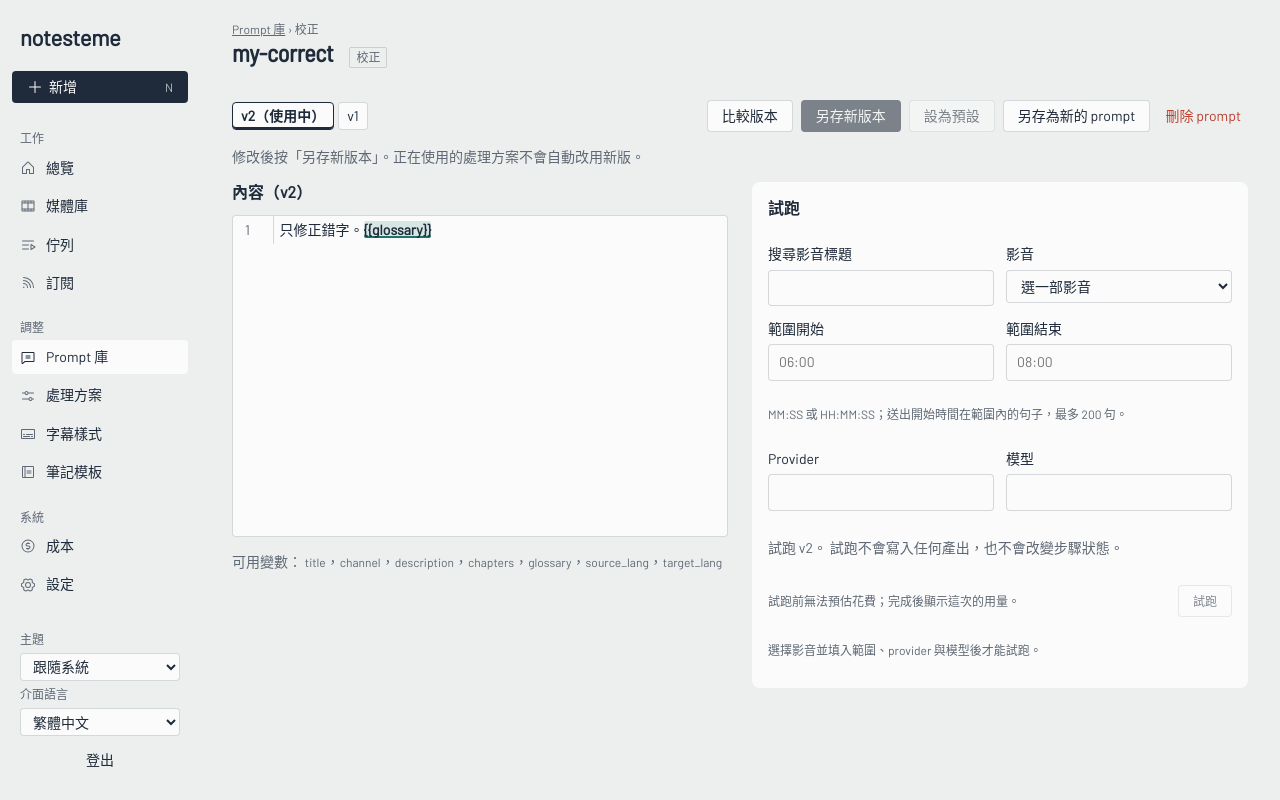
Scenario: Prompt 庫：編輯 › 刪除成功後回到列表
This screenshot has width=1280, height=800.
expect the heading "my-correct" is shown: met, box [232, 39, 333, 68]
expect the element named "版本" is shown: met, box [232, 102, 368, 130]
Click the button "刪除 prompt".
click(1203, 116)  # box [1158, 100, 1248, 132]
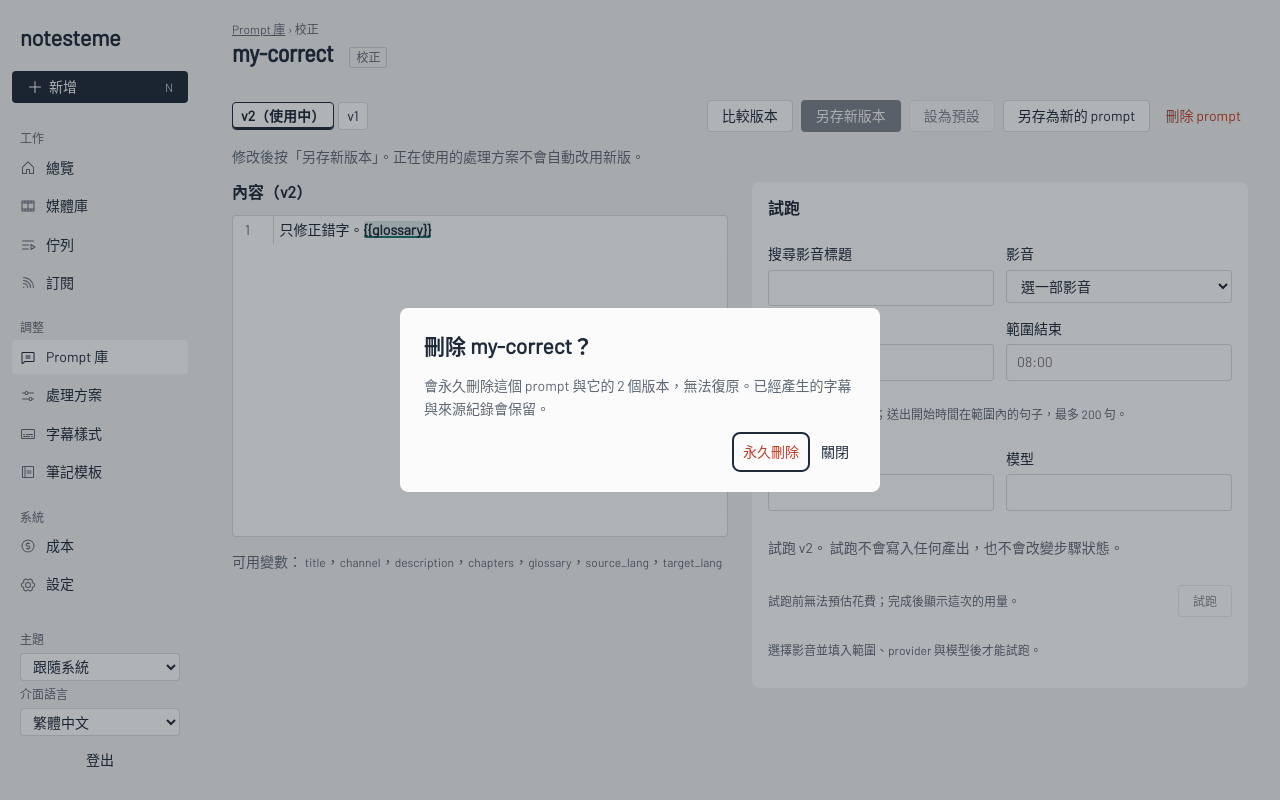
Click the button "永久刪除".
click(771, 452)  # box [736, 436, 806, 468]
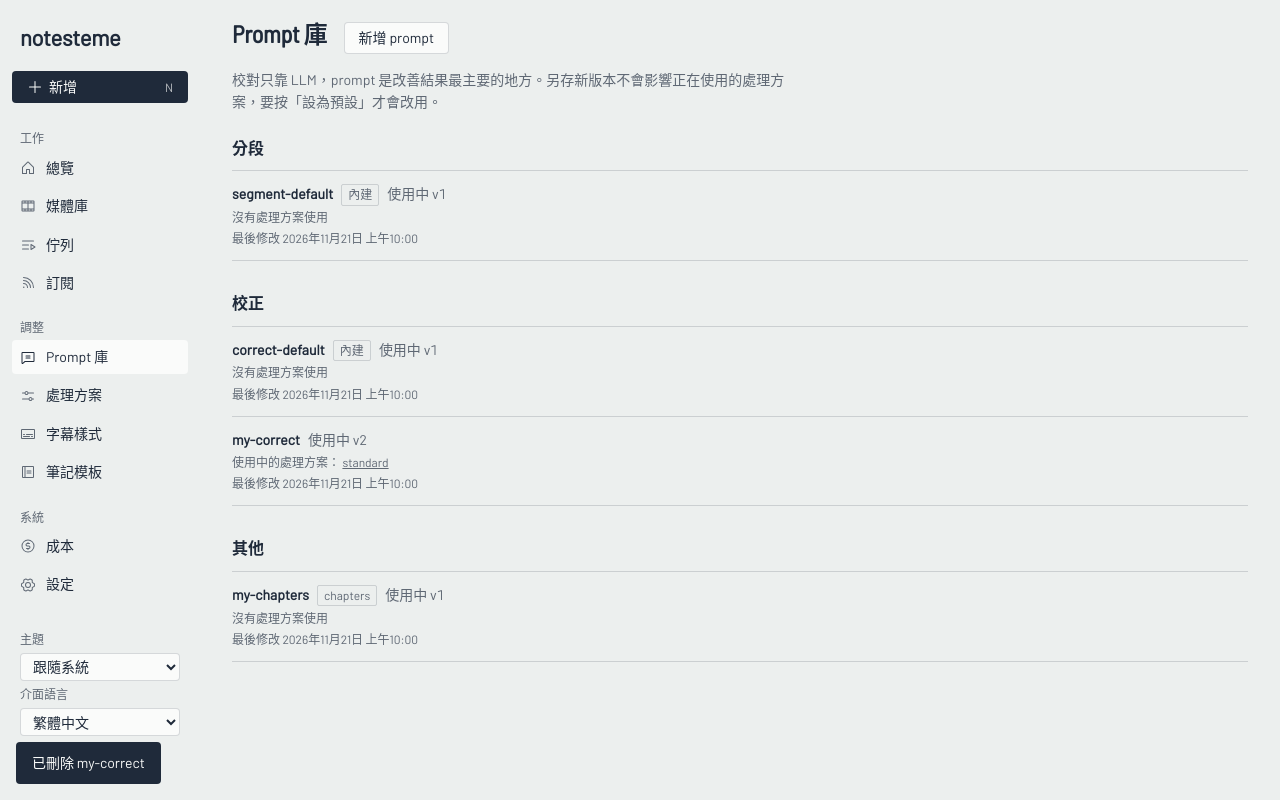
expect the text "已刪除 my-correct" is shown: met, box [32, 752, 145, 774]
